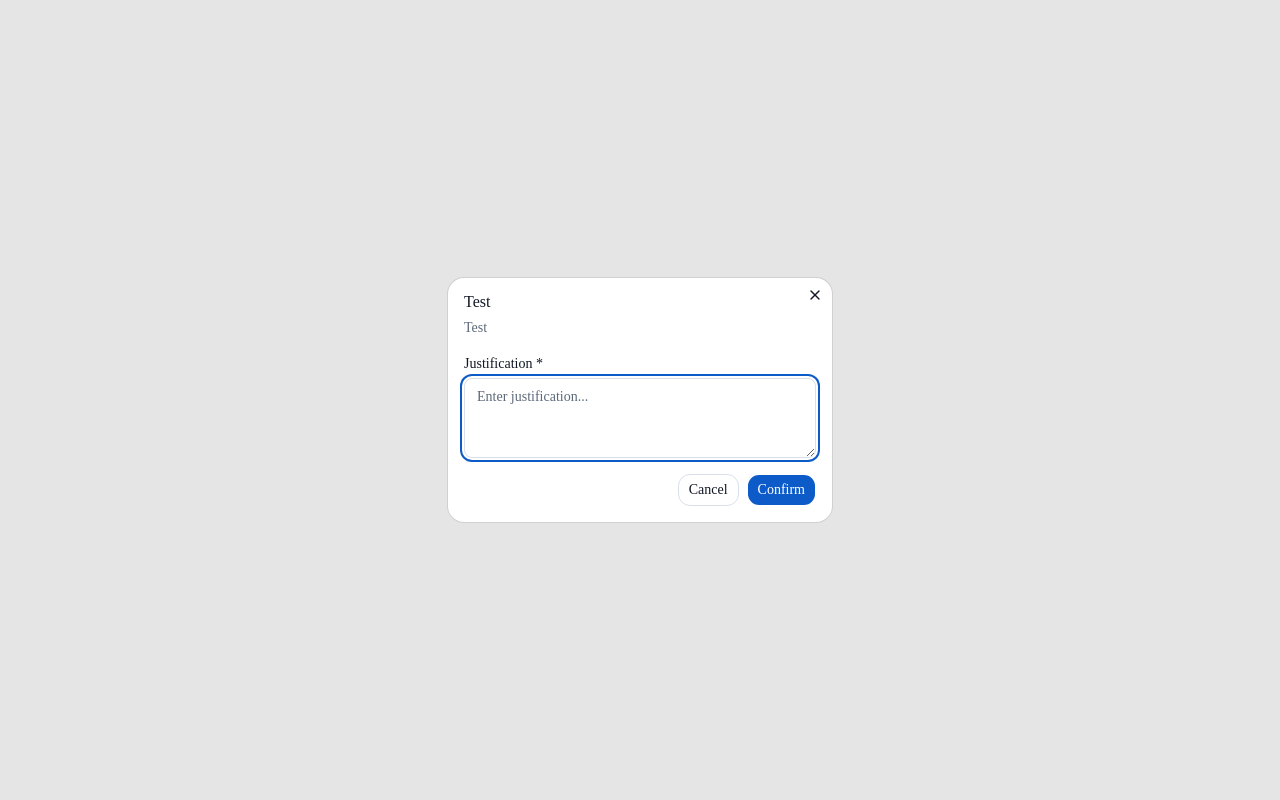
Test: FE-REC-009 — OKR Tree & Performance Management › ConfirmActionModal › blocks submit when justification is required and empty
The image size is (1280, 800).
Click the button with test id "confirm-action-btn".
click(781, 490)  # box [746,474,816,506]
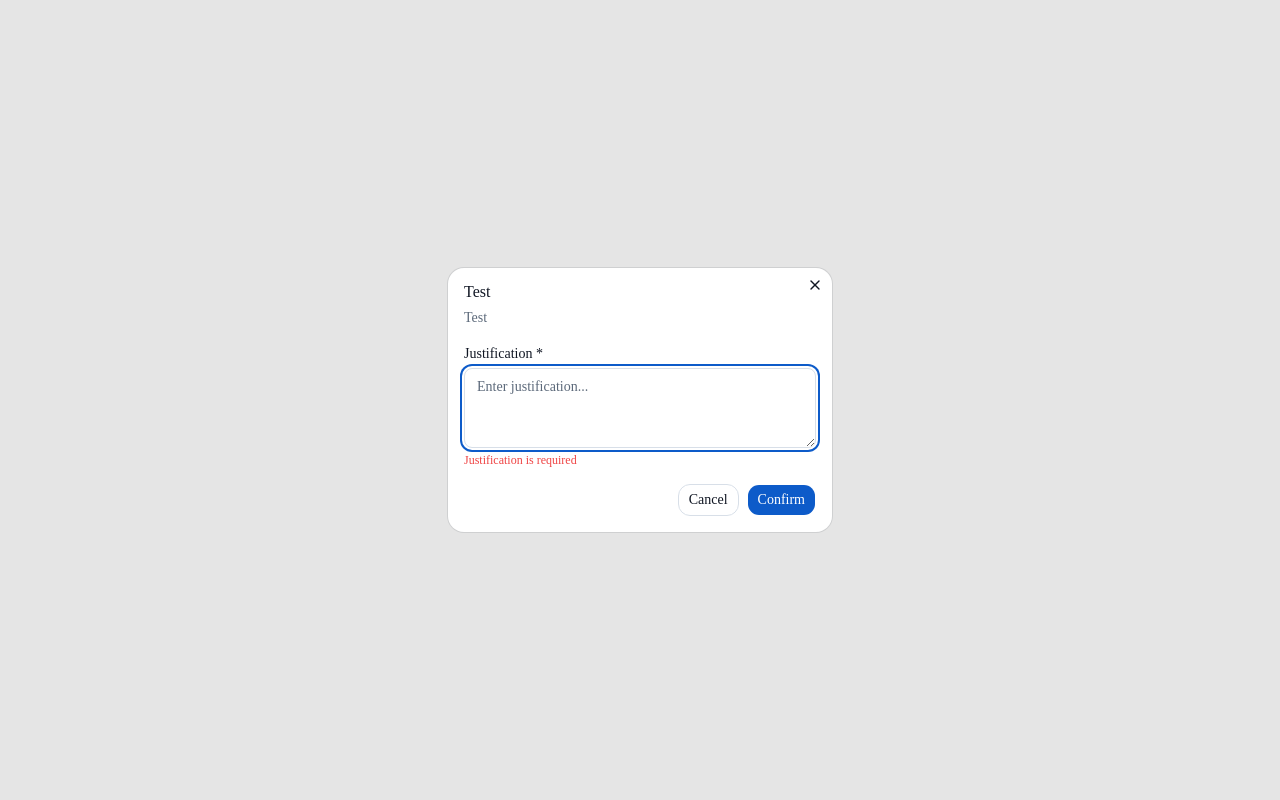
Expected: the message "Justification is required" is shown, [464,453,577,467]
